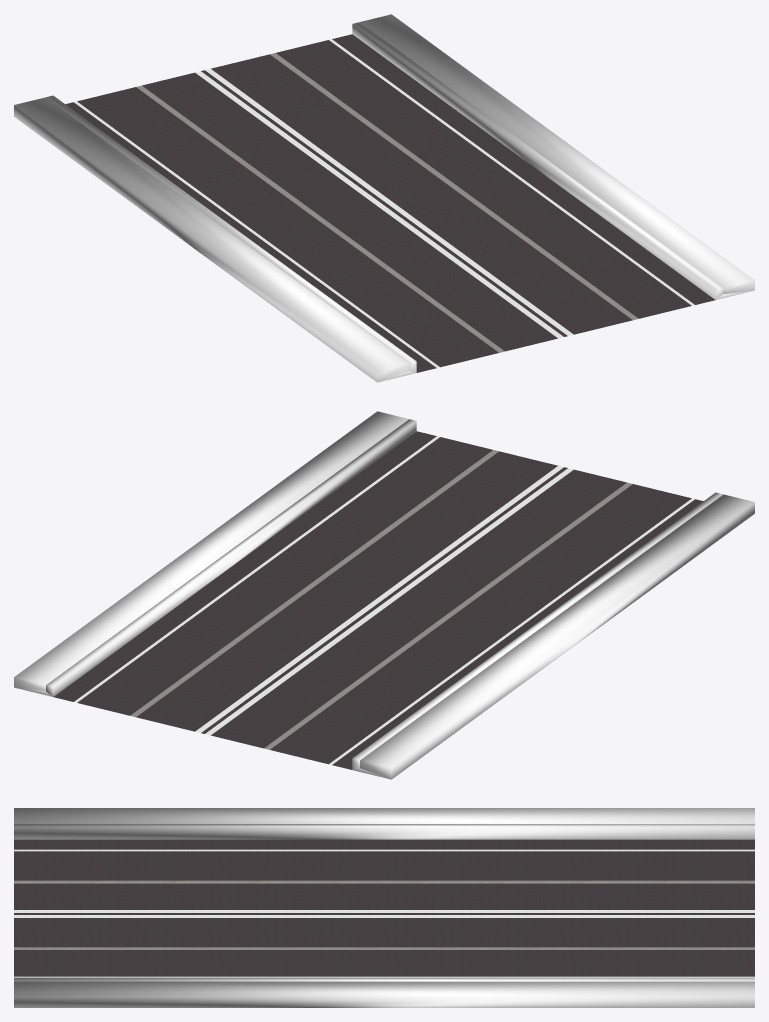
File: road2.dae
The picture shows the model from 3 angles, top to bottom: view 1: azimuth 30°, elevation 25°; view 2: azimuth 150°, elevation 25°; view 3: azimuth 270°, elevation 25°; orthographic projection.
Visible parts, largest first — view 1: Asphalt_New_002, Color_002_002, Color_E02_002, _Color_E02__1_002, Color_000; view 2: Asphalt_New_002, Color_002_002, Color_E02_002, _Color_E02__1_002, Color_000; view 3: Asphalt_New_002, Color_002_002, Color_E02_002, _Color_E02__1_002, Color_000.
Part boxes in pixels (x1,y1,x2,y2): Asphalt_New_002: [65, 34, 715, 372]; Color_002_002: [14, 14, 754, 382]; Color_E02_002: [74, 39, 694, 367]; _Color_E02__1_002: [136, 53, 638, 352]; Color_000: [195, 71, 563, 338]; Asphalt_New_002: [53, 431, 703, 769]; Color_002_002: [14, 411, 754, 779]; Color_E02_002: [74, 436, 694, 764]; _Color_E02__1_002: [130, 450, 632, 749]; Color_000: [205, 468, 573, 735]; Asphalt_New_002: [14, 839, 754, 976]; Color_002_002: [14, 808, 754, 1007]; Color_E02_002: [14, 849, 754, 977]; _Color_E02__1_002: [14, 880, 754, 949]; Color_000: [14, 910, 754, 912].
Size of the model in its own units: 576 by 960 by 17.
Materials: 4 (4 with a texture image).
